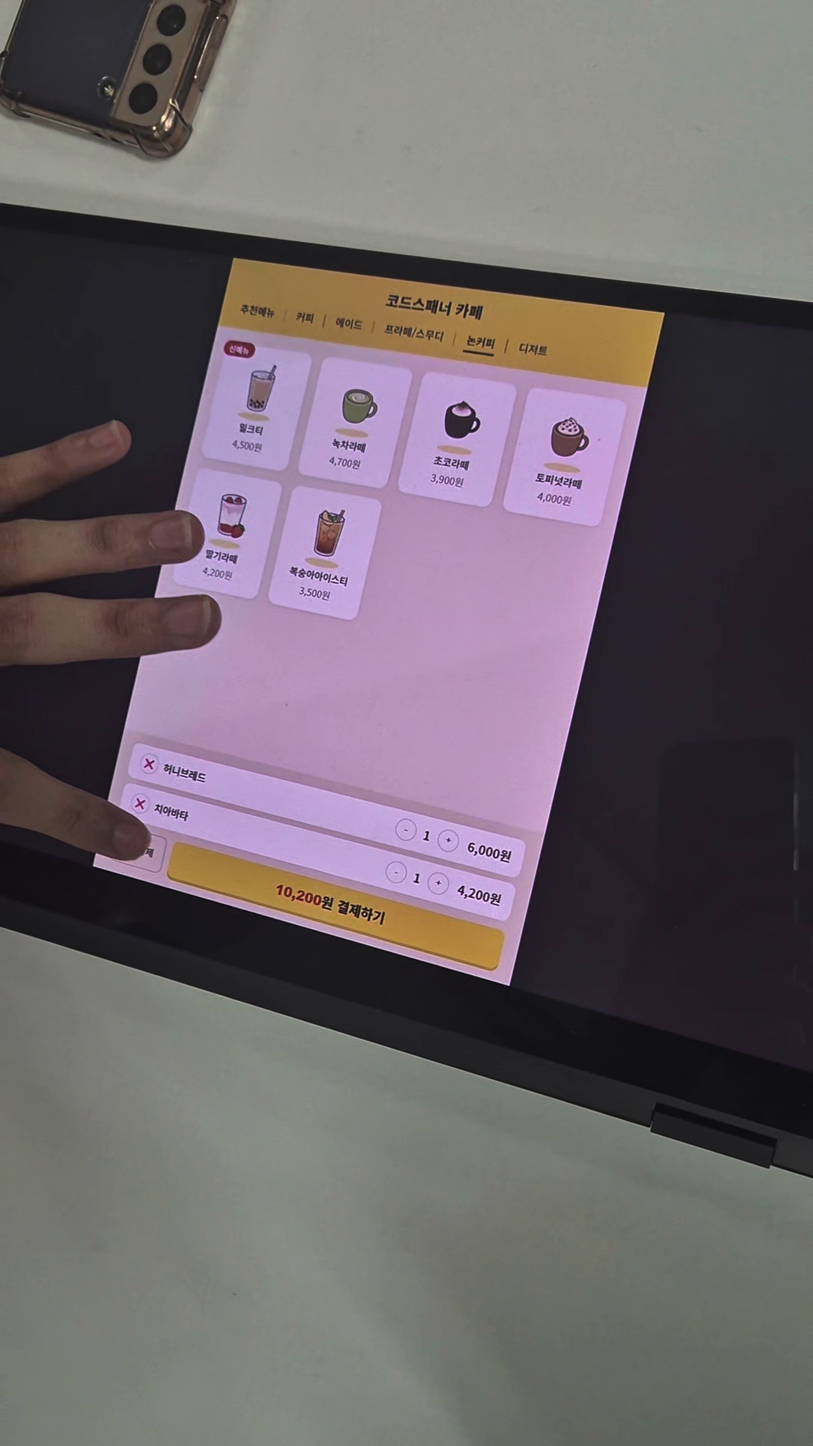action_button: (166, 841, 505, 972), (105, 824, 168, 874)
cart_item: (116, 782, 517, 923), (127, 742, 527, 880)
category_tab: (500, 388, 628, 528), (394, 371, 518, 509), (266, 485, 383, 623), (297, 356, 415, 490), (170, 466, 283, 602), (200, 340, 313, 473), (384, 321, 447, 344), (238, 301, 277, 322), (465, 334, 497, 351), (518, 341, 550, 358), (333, 315, 364, 332), (293, 310, 318, 325)
menu_name: (287, 564, 350, 587), (160, 760, 210, 788), (534, 471, 584, 493), (150, 802, 191, 824), (330, 436, 369, 455), (432, 454, 472, 472), (204, 548, 240, 567), (237, 421, 266, 437)
menu_price: (462, 839, 513, 867), (453, 881, 504, 909), (536, 489, 574, 508), (326, 454, 364, 472), (428, 472, 467, 489), (230, 438, 264, 455), (201, 565, 234, 582), (298, 585, 332, 601)
